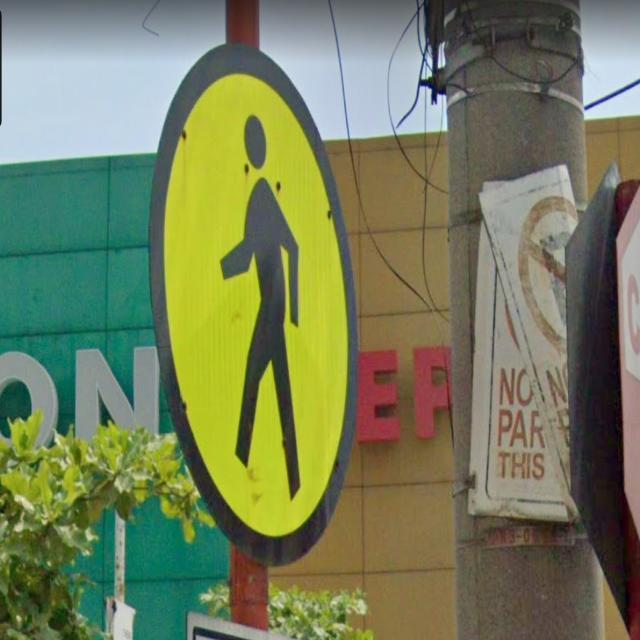pedestrian crossing: (148, 42, 357, 563)
